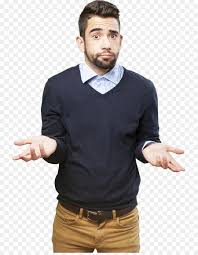No-Glasses: (85, 26, 125, 44)
